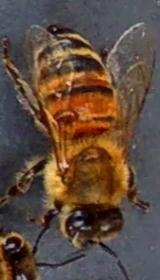varroa_mite: (42, 99, 88, 133)
